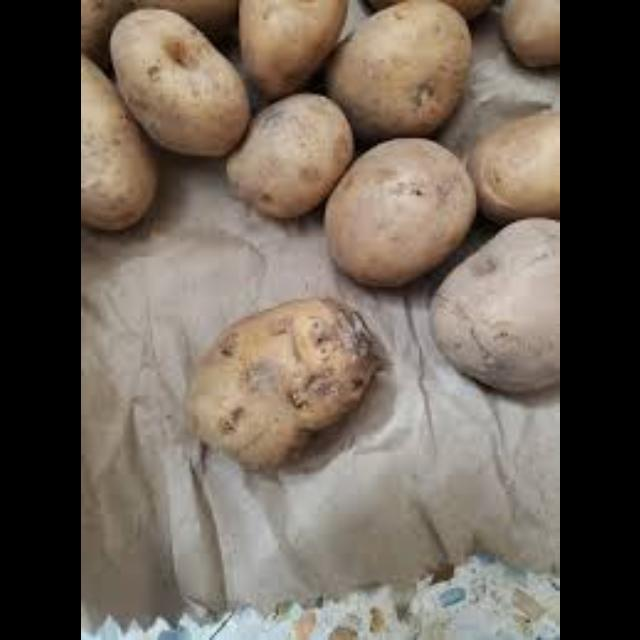Damaged potato: (173, 290, 381, 484)
Potato: (432, 217, 560, 417), (332, 125, 470, 287), (105, 2, 243, 162), (322, 1, 482, 139), (220, 100, 370, 222), (448, 108, 558, 228), (80, 65, 152, 239), (232, 2, 348, 106)
